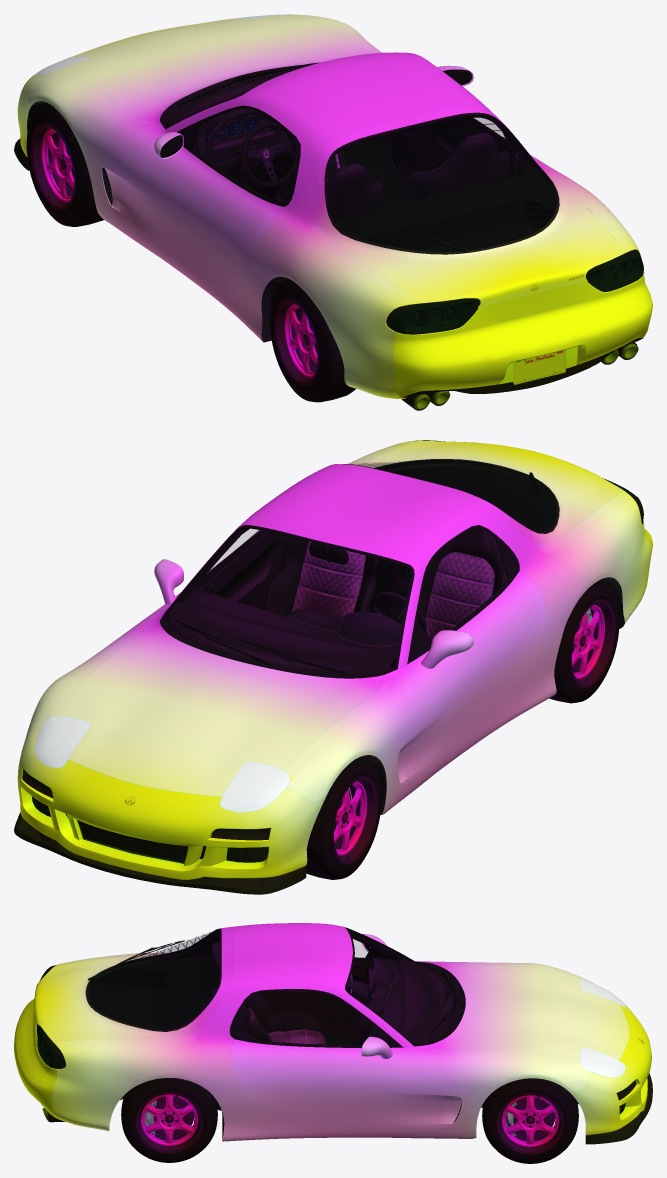
The picture shows the model from 3 angles, top to bottom: view 1: azimuth 30°, elevation 25°; view 2: azimuth 150°, elevation 25°; view 3: azimuth 270°, elevation 25°; orthographic projection. The views are drawn at different scales.
Parts seen in each view (by area): view 1: bodyshell, windscreen_r, bumper_r, boot, misc_k, misc_c, door_dside_f, wheel_lr, misc_b, window_lf, wheel_lf, chassis (+5 smaller); view 2: bodyshell, misc_c, bumper_f, misc_k, door_dside_f, misc_b, boot, wheel_lf, window_lf, wheel_lr, windscreen_r, misc_r (+6 smaller); view 3: bodyshell, door_pside_f, misc_k, misc_c, windscreen_r, boot, wheel_rf, wheel_rr, bumper_f, window_rf, misc_b, misc_l (+5 smaller).
Boxes of the visible parts, <box> form: bodyshell: <box>27,14,643,398</box>; windscreen_r: <box>327,115,556,251</box>; bumper_r: <box>393,271,652,397</box>; boot: <box>315,105,623,307</box>; misc_k: <box>169,76,556,252</box>; misc_c: <box>59,15,367,122</box>; door_dside_f: <box>127,122,296,285</box>; wheel_lr: <box>270,279,355,402</box>; misc_b: <box>327,132,518,220</box>; window_lf: <box>195,108,297,198</box>; wheel_lf: <box>26,103,103,226</box>; chassis: <box>32,62,591,342</box>; bodyshell: <box>27,440,651,814</box>; misc_c: <box>58,621,383,796</box>; bumper_f: <box>14,727,325,894</box>; misc_k: <box>168,466,556,672</box>; door_dside_f: <box>407,537,545,775</box>; misc_b: <box>265,528,507,639</box>; boot: <box>324,440,623,544</box>; wheel_lf: <box>306,756,381,879</box>; window_lf: <box>418,528,508,638</box>; wheel_lr: <box>549,580,619,703</box>; windscreen_r: <box>350,460,556,530</box>; misc_r: <box>196,531,283,610</box>; bodyshell: <box>37,923,590,1141</box>; door_pside_f: <box>231,1008,424,1129</box>; misc_k: <box>88,930,454,1044</box>; misc_c: <box>429,963,629,1061</box>; windscreen_r: <box>88,930,218,1029</box>; boot: <box>34,927,232,1041</box>; wheel_rf: <box>482,1078,578,1163</box>; wheel_rr: <box>121,1078,217,1162</box>; bumper_f: <box>568,981,652,1144</box>; window_rf: <box>242,991,371,1045</box>; misc_b: <box>211,942,325,1044</box>; misc_l: <box>259,960,369,1033</box>.
Size of the model in its own units: 1.83 by 1.22 by 4.28.
24 materials, 24 textured.
